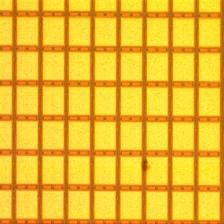PIQ PARTICLE: (139, 157, 155, 173)
